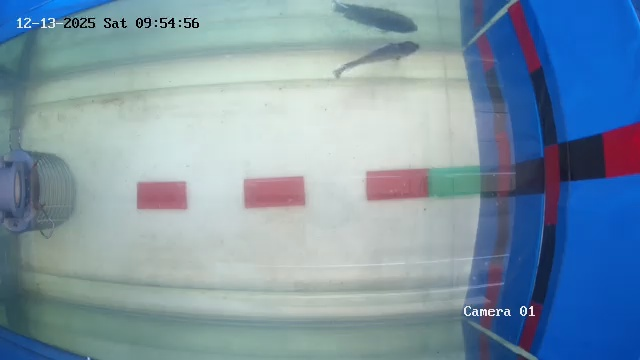fish: (332, 40, 433, 91)
